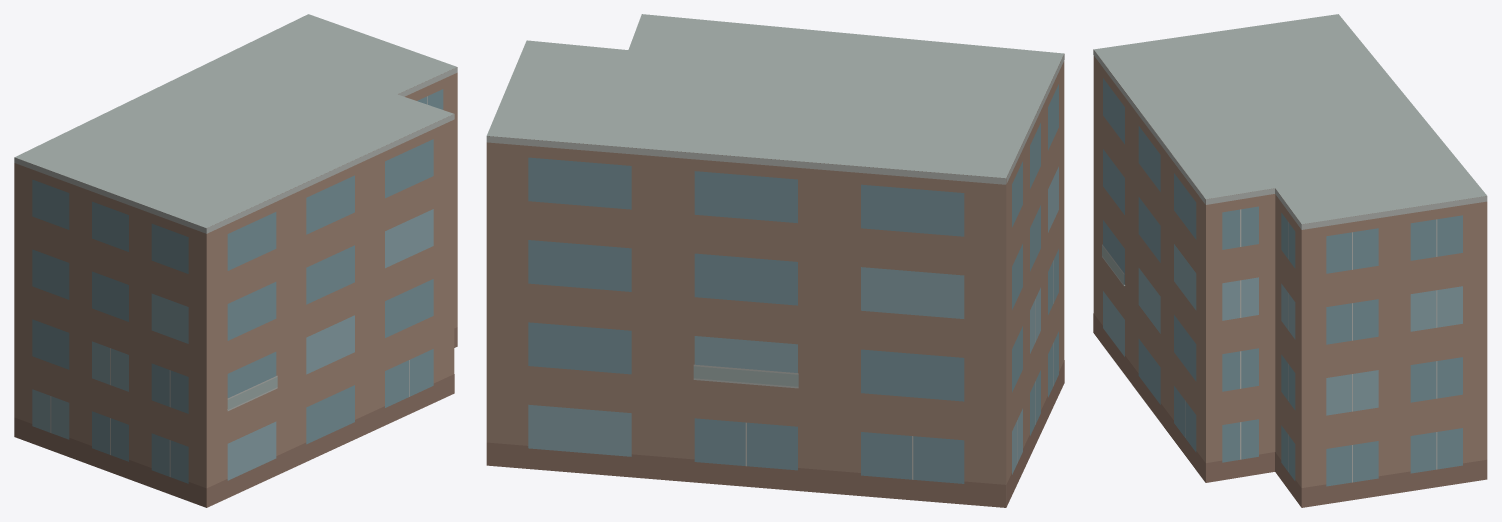
The model's file is residential-d7f025b7-8698-4e02-971b-6b2c3be91598.glb.
The picture shows the model from 3 angles, left to right: view 1: azimuth 30°, elevation 25°; view 2: azimuth 150°, elevation 25°; view 3: azimuth 270°, elevation 25°; orthographic projection. The views are drawn at different scales.
Parts seen in each view (by area): view 1: residential-d7f025b7-8698-4e02-971b-6b2c3be91598.tmp; view 2: residential-d7f025b7-8698-4e02-971b-6b2c3be91598.tmp; view 3: residential-d7f025b7-8698-4e02-971b-6b2c3be91598.tmp.
Boxes of the visible parts, <box> form: residential-d7f025b7-8698-4e02-971b-6b2c3be91598.tmp: <box>14,14,457,507</box>; residential-d7f025b7-8698-4e02-971b-6b2c3be91598.tmp: <box>486,14,1064,507</box>; residential-d7f025b7-8698-4e02-971b-6b2c3be91598.tmp: <box>1093,14,1487,507</box>.
Size of the model in its own units: 19.41 by 12.2 by 15.36.
